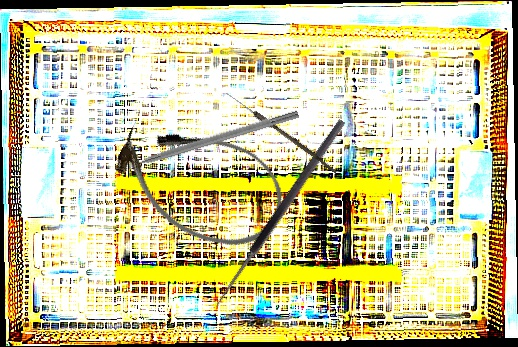Cannula: (100, 99, 298, 266)
Hook Surgical: (212, 117, 356, 316), (117, 107, 300, 174)
Surgical Spoon: (223, 90, 339, 174)
